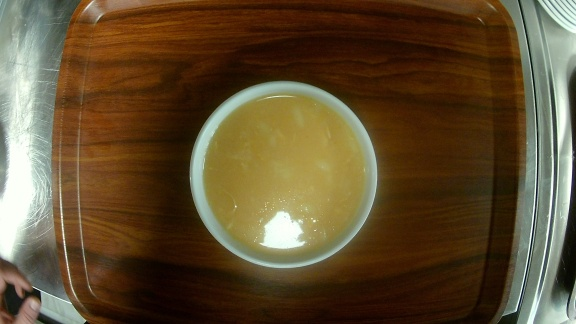tavukcorba: (186, 78, 380, 271)
